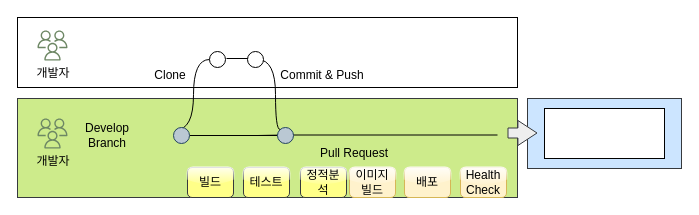
The diagram is 699 pixels wide and 215 high, and some of its shapes have lost their labels. Here are the shapes that lost their labels. From the top down, the box of each, then its label:
(16, 16, 518, 88): Local IDE
(544, 108, 664, 158): 개발기
